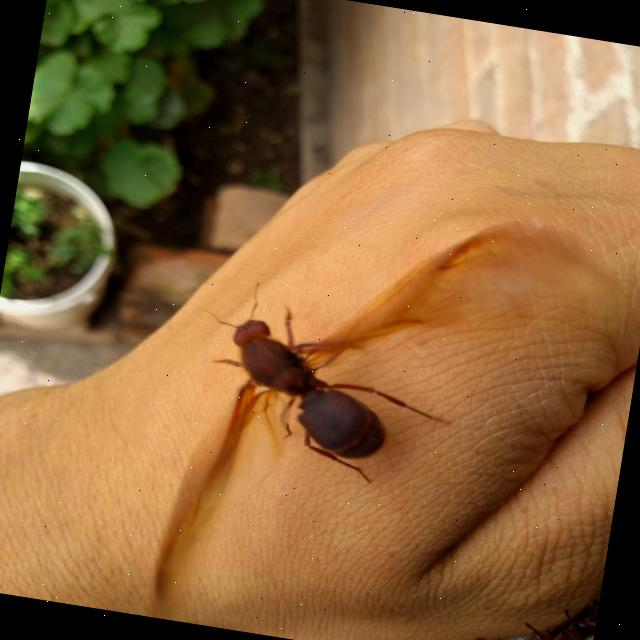Alive-Female-Alate: (148, 172, 632, 640)
